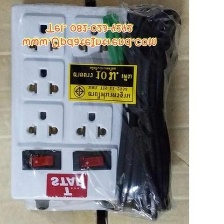three_eye_plug: (6, 0, 143, 213)
